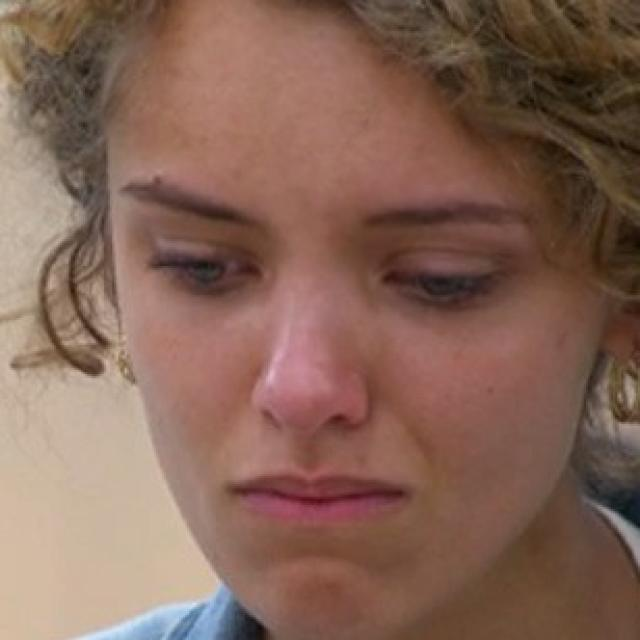Depress: (109, 2, 606, 638)
